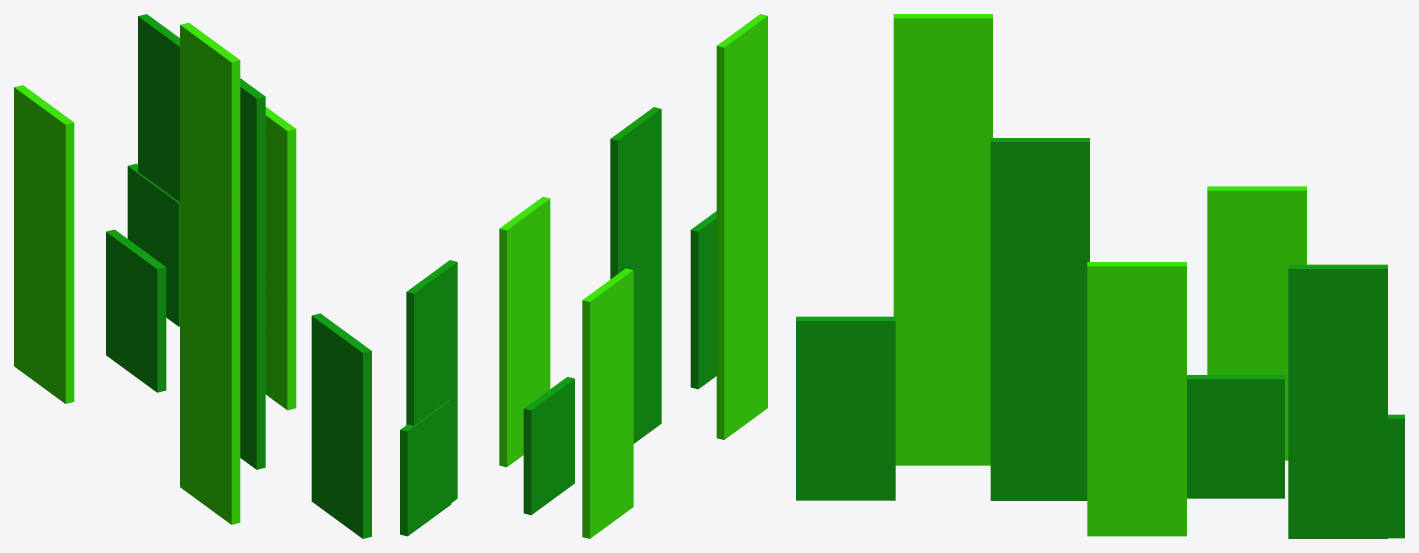
Rendered from grass3.fbx.
3 renders of one model, left to right at view 1: azimuth 30°, elevation 25°; view 2: azimuth 150°, elevation 25°; view 3: azimuth 270°, elevation 25°, orthographic. The views are drawn at different scales.
Parts seen in each view (by area): view 1: Cube.020, Cube.024, Cube.021, Cube.019, Cube.022, Cube.025, Cube.026, Cube.023; view 2: Cube.020, Cube.024, Cube.019, Cube.022, Cube.026, Cube.025, Cube.023, Cube.021; view 3: Cube.020, Cube.019, Cube.022, Cube.026, Cube.021, Cube.024, Cube.025, Cube.023.
Part boxes in pixels (box(x1,y1,x2,y2)): Cube.020: box(180, 22, 240, 524); Cube.024: box(14, 85, 74, 403); Cube.021: box(311, 313, 371, 538); Cube.019: box(240, 78, 265, 469); Cube.022: box(265, 107, 296, 410); Cube.025: box(106, 229, 166, 392); Cube.026: box(138, 14, 179, 202); Cube.023: box(127, 163, 179, 326); Cube.020: box(716, 14, 767, 439); Cube.024: box(582, 268, 633, 538); Cube.019: box(610, 107, 661, 443); Cube.022: box(499, 197, 550, 467); Cube.026: box(406, 260, 457, 502); Cube.025: box(523, 377, 574, 515); Cube.023: box(400, 399, 451, 536); Cube.021: box(690, 211, 716, 389); Cube.020: box(893, 14, 992, 465); Cube.019: box(990, 138, 1089, 500); Cube.022: box(1087, 262, 1186, 536); Cube.026: box(1288, 264, 1387, 538); Cube.021: box(796, 316, 895, 500); Cube.024: box(1207, 186, 1306, 460); Cube.025: box(1187, 375, 1284, 498); Cube.023: box(1388, 414, 1404, 538).
Bounding box in the file's own units: 196 × 496 × 612.
